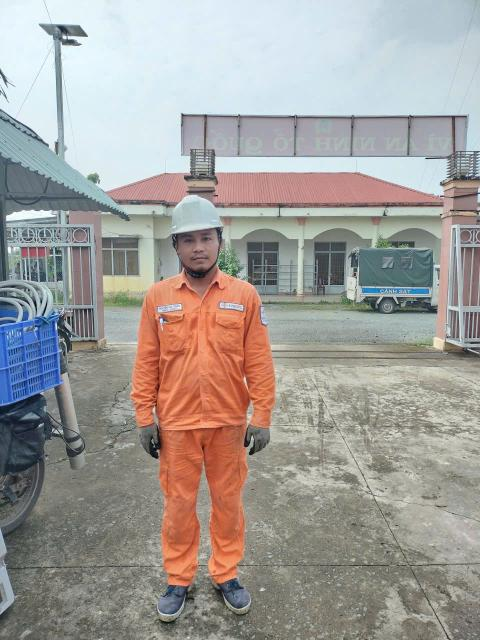gloves: (231, 413, 272, 458), (135, 413, 165, 462)
helmet: (169, 191, 224, 238)
shoes: (204, 560, 256, 619), (146, 573, 188, 633)
